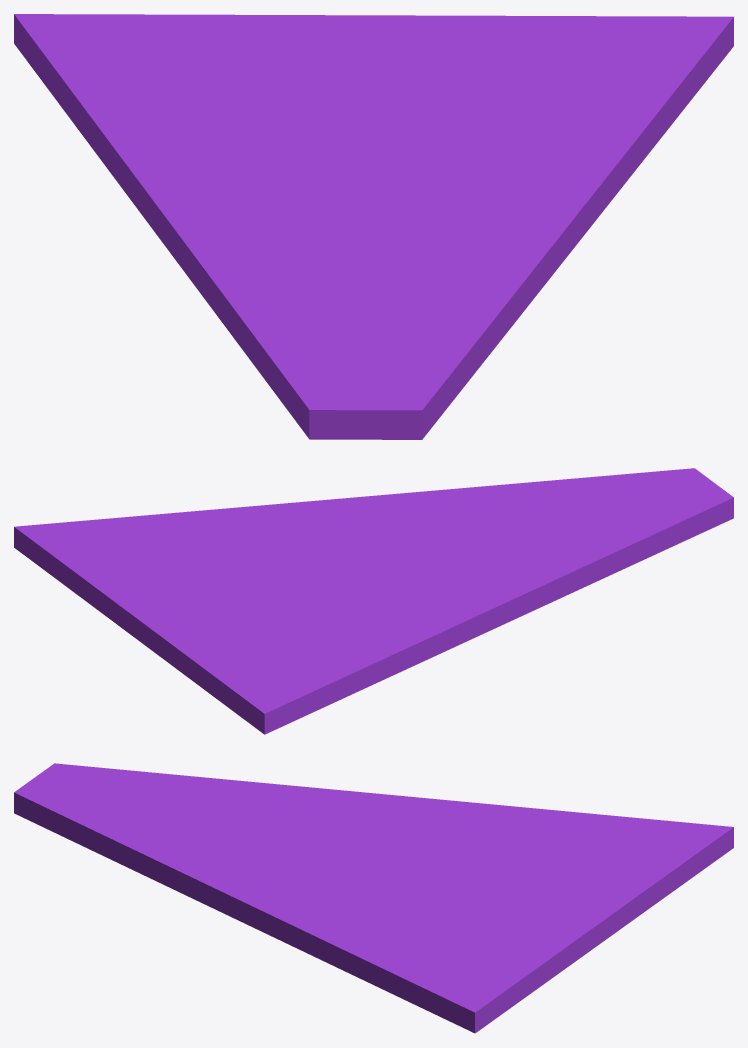
File: StairsStep_17.fbx
The picture shows the model from 3 angles, top to bottom: view 1: azimuth 30°, elevation 25°; view 2: azimuth 150°, elevation 25°; view 3: azimuth 270°, elevation 25°; orthographic projection. The views are drawn at different scales.
Visible parts, largest first — view 1: StairsStep_17; view 2: StairsStep_17; view 3: StairsStep_17.
Boxes of the visible parts, x1,y1,x2,y2 form: StairsStep_17: (14,14,733,439); StairsStep_17: (14,468,733,734); StairsStep_17: (14,763,733,1033).
Bounding box in the file's own units: 459 × 17.94 × 560.
